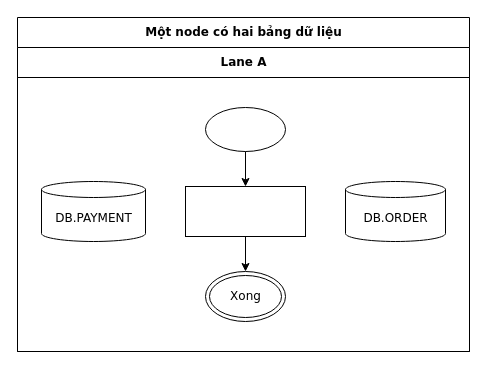
The diagram is 487 pixels wide and 369 high, and some of its shapes have lost their labels. Here are the shapes that lost their labels. From the top down, the box of each, then its label:
(204, 106, 286, 152): Vào
(184, 186, 306, 236): Đối soát
